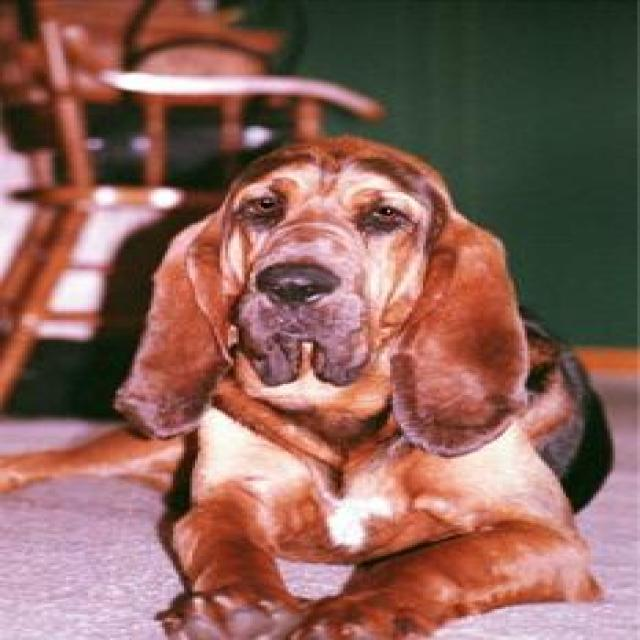bloodhound: (113, 137, 607, 638)
